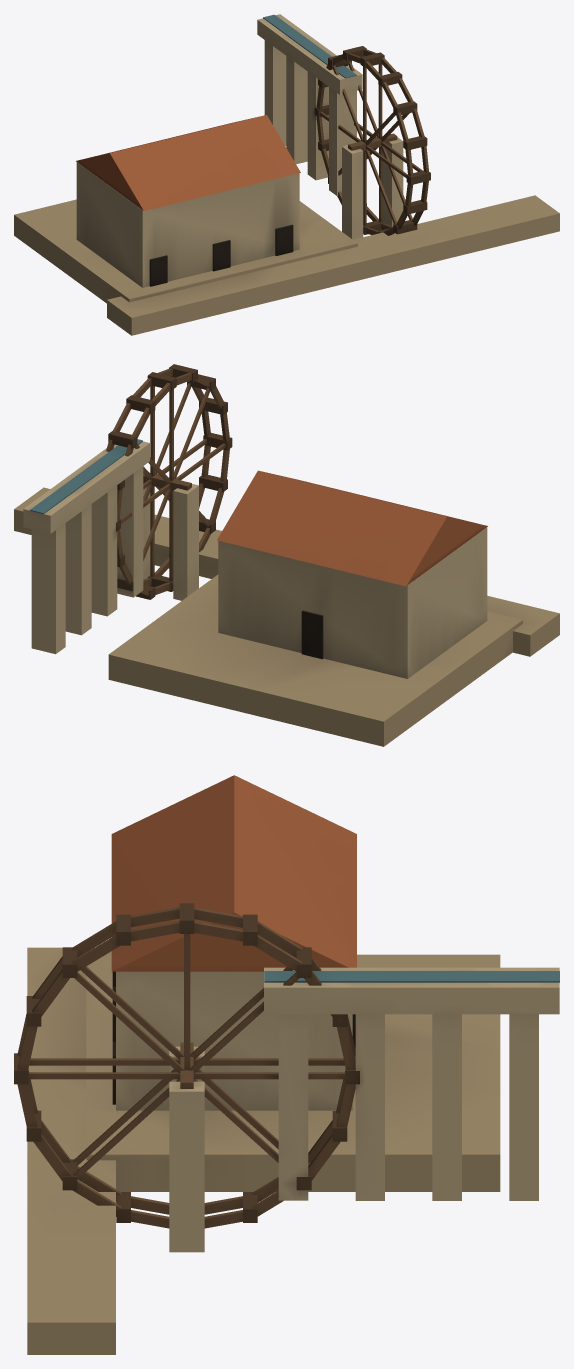
The model's file is albolafia.glb.
3 views of the same model, one above another, from view 1: azimuth 30°, elevation 25°; view 2: azimuth 150°, elevation 25°; view 3: azimuth 270°, elevation 25° (orthographic). The views are drawn at different scales.
Parts seen in each view (by area): view 1: p1_mill, p0_weir, p2_wheel; view 2: p1_mill, p0_weir, p2_wheel; view 3: p1_mill, p0_weir, p2_wheel.
Boxes of the visible parts, left/top/right/bottom form: p1_mill: left=76, top=14, right=362, bottom=287; p0_weir: left=14, top=195, right=559, bottom=335; p2_wheel: left=314, top=46, right=430, bottom=239; p1_mill: left=23, top=439, right=487, bottom=678; p0_weir: left=14, top=487, right=559, bottom=746; p2_wheel: left=106, top=364, right=232, bottom=600; p1_mill: left=111, top=775, right=559, bottom=1200; p0_weir: left=27, top=947, right=500, bottom=1354; p2_wheel: left=14, top=903, right=359, bottom=1252.
Size of the model in its own units: 30 by 11.86 by 18.46.
